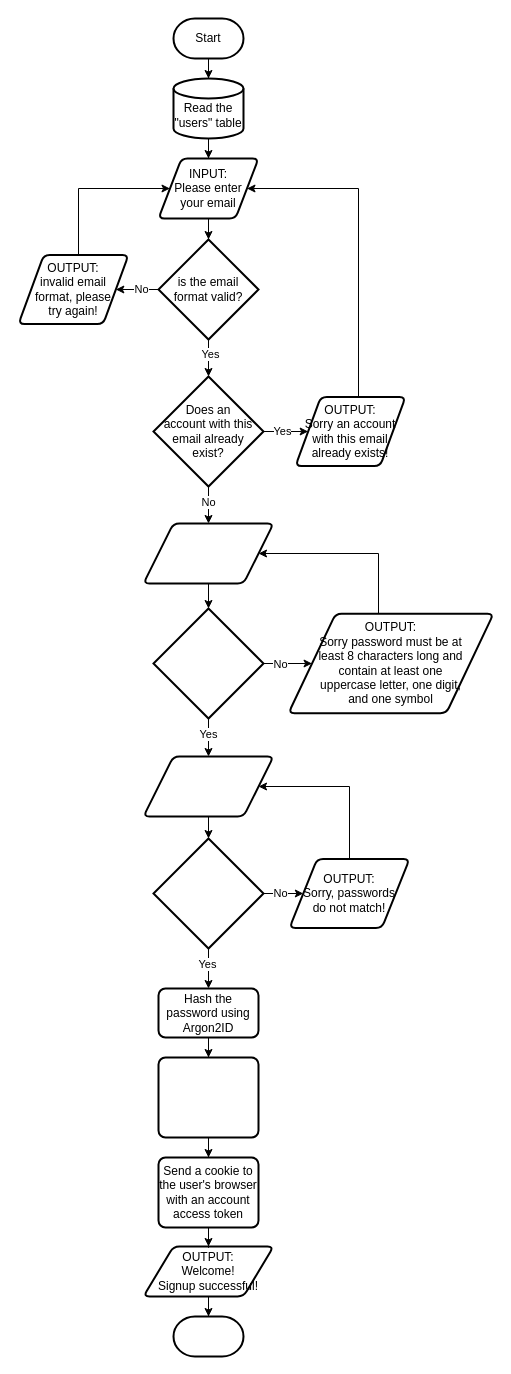
Some shapes in this 511 by 1374 pixel diagram are drawn without their labels. The shapes that lost their labels are listed below. From the top down, each one's box as (x1, y1, x2, y2) in pixels, then its label:
(142, 522, 274, 584): INPUT: Please enter your password
(152, 607, 264, 719): Does password meet complexity requirements?
(142, 755, 274, 817): INPUT: Please confirm your password
(152, 837, 264, 949): Do password and confirm password match?
(157, 1056, 259, 1138): Add the new account to the "users" table (storing the email and pass_hash)
(172, 1315, 244, 1357): End
